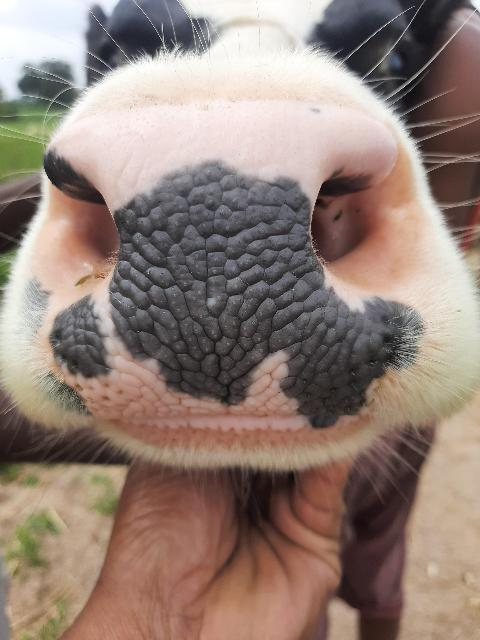Muzzle: (91, 133, 351, 435)
